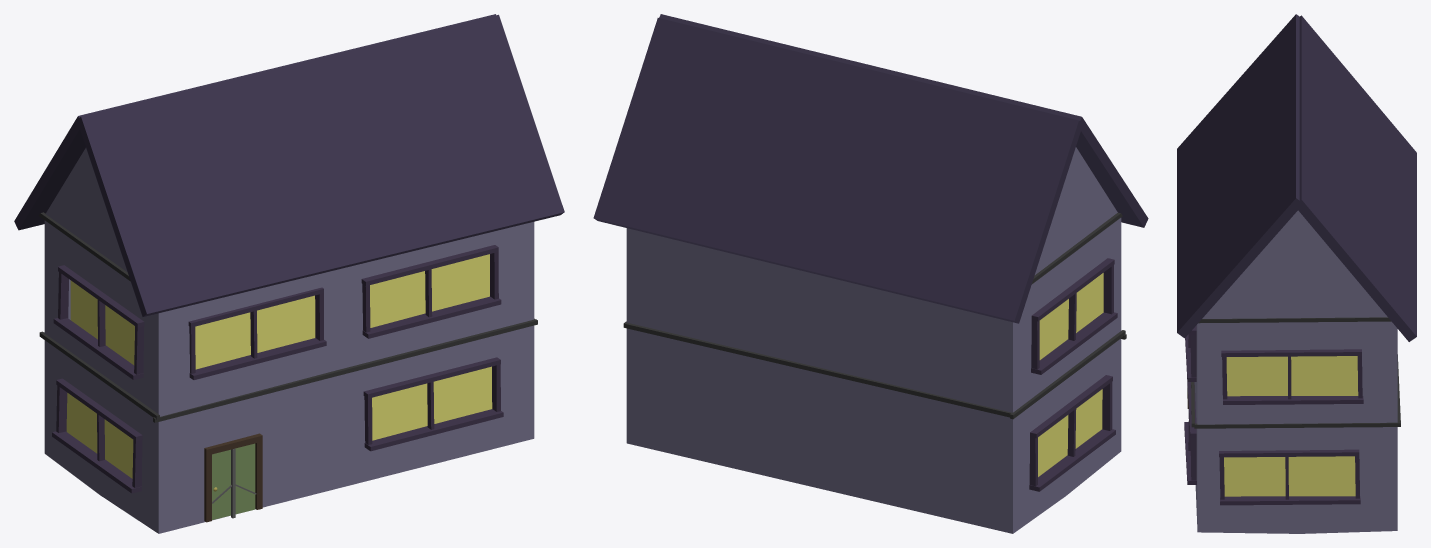
Rendered from House8.fbx.
3 renders of one model, left to right at view 1: azimuth 30°, elevation 25°; view 2: azimuth 150°, elevation 25°; view 3: azimuth 270°, elevation 25°, orthographic. The views are drawn at different scales.
Visible parts, largest first — view 1: Cube.005, Cube.001, Cube.058, Cube.055, Cube.054, Cube.004, Cube.009, Cube.043, Cube.012, Cube.042, Cube.050, Cube.045 (+10 smaller); view 2: Cube.001, Cube.004, Cube.005, Cube.015, Cube.042, Cube.043, Cube.020, Cube.032, Cube.031, Cube.019, Cube.016, Cube.017; view 3: Cube.001, Cube.005, Cube.004, Cube.040, Cube.041, Cube.024, Cube.028, Cube.023, Cube.027, Cube.014, Cube.018, Cube.045 (+1 smaller).
Boxes of the visible parts, bbox=[...] form: Cube.005: bbox=[77, 14, 564, 316]; Cube.001: bbox=[44, 148, 534, 533]; Cube.058: bbox=[195, 295, 315, 369]; Cube.055: bbox=[372, 366, 492, 440]; Cube.054: bbox=[370, 254, 489, 327]; Cube.004: bbox=[14, 14, 495, 230]; Cube.009: bbox=[212, 443, 255, 519]; Cube.043: bbox=[66, 393, 133, 478]; Cube.012: bbox=[153, 319, 537, 422]; Cube.042: bbox=[70, 280, 134, 365]; Cube.050: bbox=[362, 296, 501, 338]; Cube.045: bbox=[364, 409, 503, 451]; Cube.001: bbox=[626, 147, 1121, 533]; Cube.004: bbox=[593, 18, 1081, 323]; Cube.005: bbox=[659, 14, 1148, 227]; Cube.015: bbox=[624, 322, 1011, 417]; Cube.042: bbox=[1039, 273, 1103, 359]; Cube.043: bbox=[1038, 389, 1102, 476]; Cube.020: bbox=[1029, 429, 1115, 491]; Cube.032: bbox=[1031, 312, 1117, 374]; Cube.031: bbox=[1031, 258, 1114, 321]; Cube.019: bbox=[1030, 375, 1112, 438]; Cube.016: bbox=[1010, 330, 1125, 419]; Cube.017: bbox=[1031, 212, 1122, 284]; Cube.001: bbox=[1194, 210, 1397, 533]; Cube.005: bbox=[1177, 14, 1299, 338]; Cube.004: bbox=[1294, 15, 1416, 341]; Cube.040: bbox=[1224, 456, 1355, 496]; Cube.041: bbox=[1226, 356, 1358, 396]; Cube.024: bbox=[1220, 496, 1360, 505]; Cube.028: bbox=[1223, 396, 1363, 404]; Cube.023: bbox=[1219, 449, 1359, 457]; Cube.027: bbox=[1221, 349, 1361, 356]; Cube.014: bbox=[1194, 422, 1400, 428]; Cube.018: bbox=[1198, 317, 1391, 323]; Cube.045: bbox=[1184, 422, 1196, 484].
Size of the model in its own units: 1401 by 1224 by 771.
